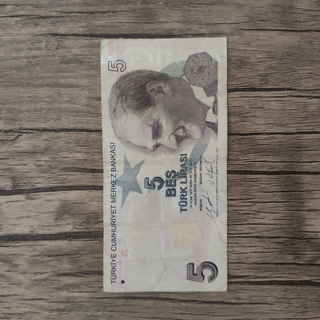5TLFront: (100, 37, 228, 293)
